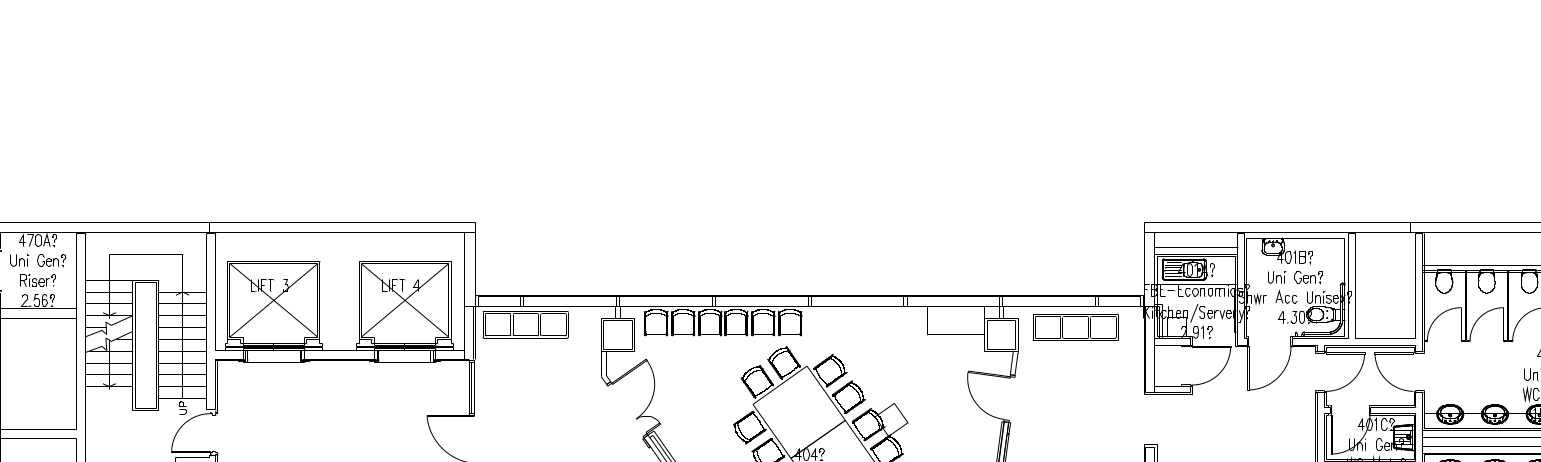door: (603, 353, 675, 439), (408, 409, 476, 462), (156, 409, 224, 462), (954, 367, 1017, 423), (1369, 349, 1425, 401), (1311, 350, 1367, 402), (1316, 405, 1372, 457), (1239, 346, 1295, 398), (1178, 339, 1234, 391), (1465, 298, 1506, 351), (1423, 298, 1464, 351), (1510, 299, 1541, 351)
